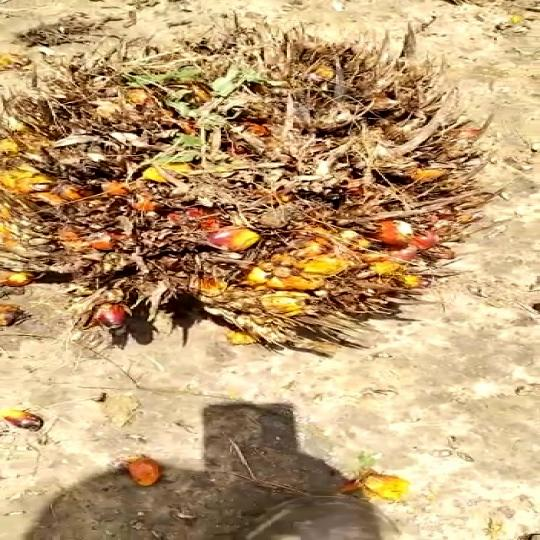terlalu masak: (0, 19, 493, 360)
